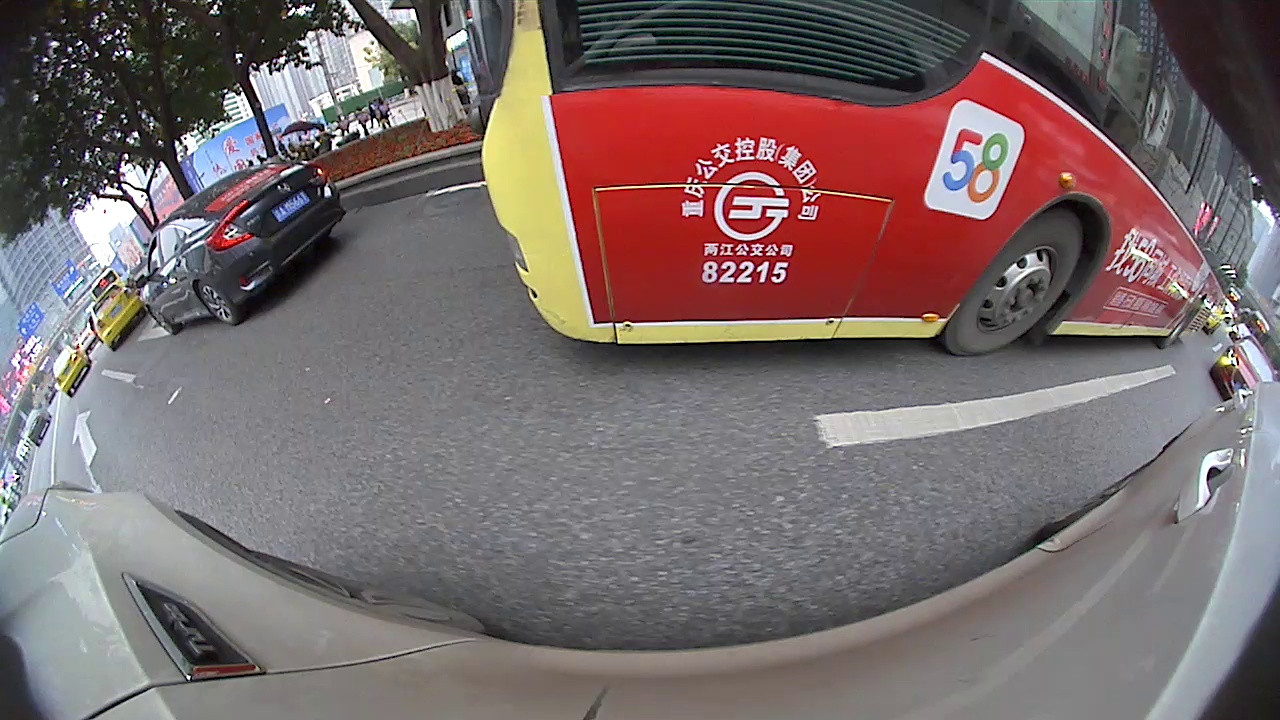bus: (451, 0, 1263, 362)
car: (143, 158, 349, 337), (1207, 333, 1275, 403), (90, 287, 150, 353), (46, 349, 93, 399)
front: (943, 209, 1087, 359), (146, 307, 183, 337)
rear: (187, 280, 249, 327), (1158, 297, 1203, 352)
